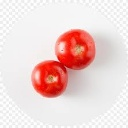tomato: (55, 29, 96, 70), (31, 60, 68, 98)
